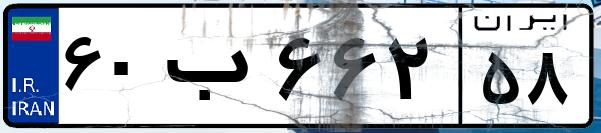0: (110, 28, 158, 98)
2: (385, 28, 445, 110)
5: (475, 38, 525, 113)
6: (270, 28, 330, 110), (330, 28, 385, 110), (57, 26, 110, 100)
8: (525, 38, 570, 115)
ب: (158, 20, 270, 120)
